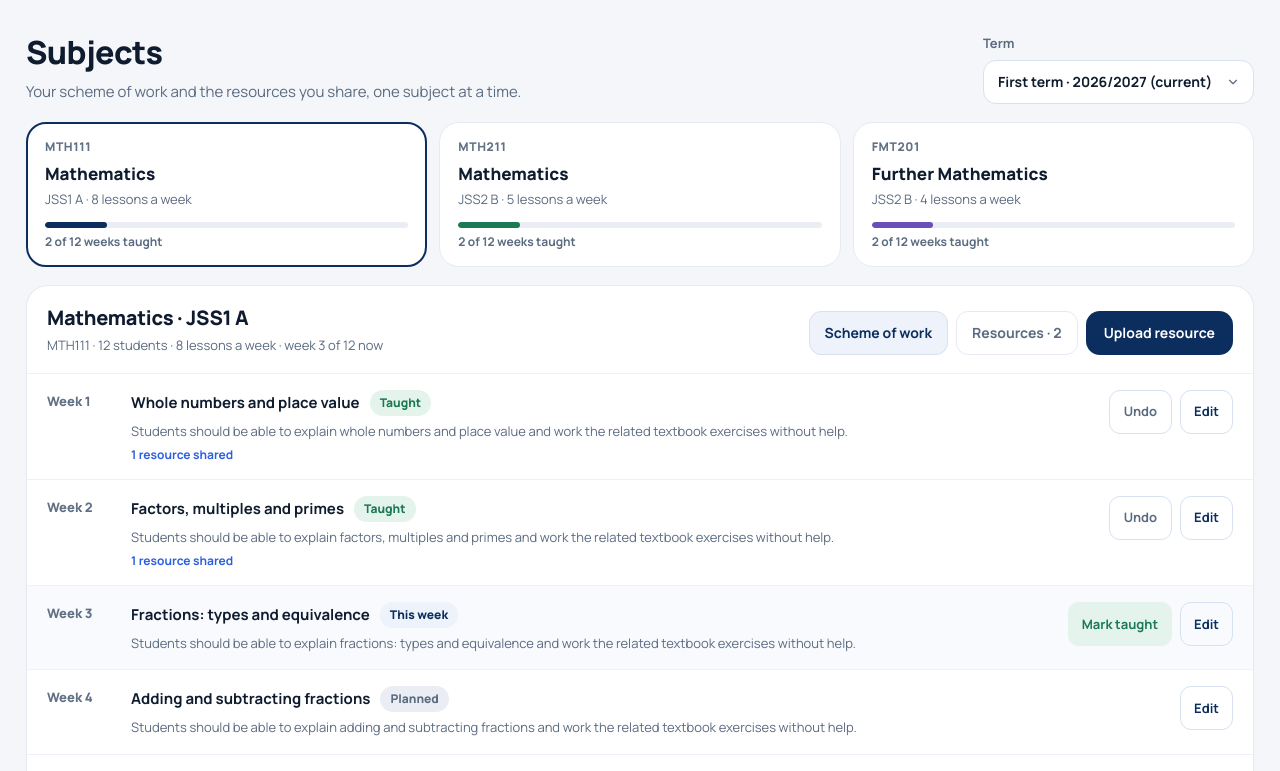
SubjectsScreen › marks a week taught, and offers the toggle only up to the current week
Click the button named "Mark taught for week 3": (1120, 624) [1068,602,1172,646]
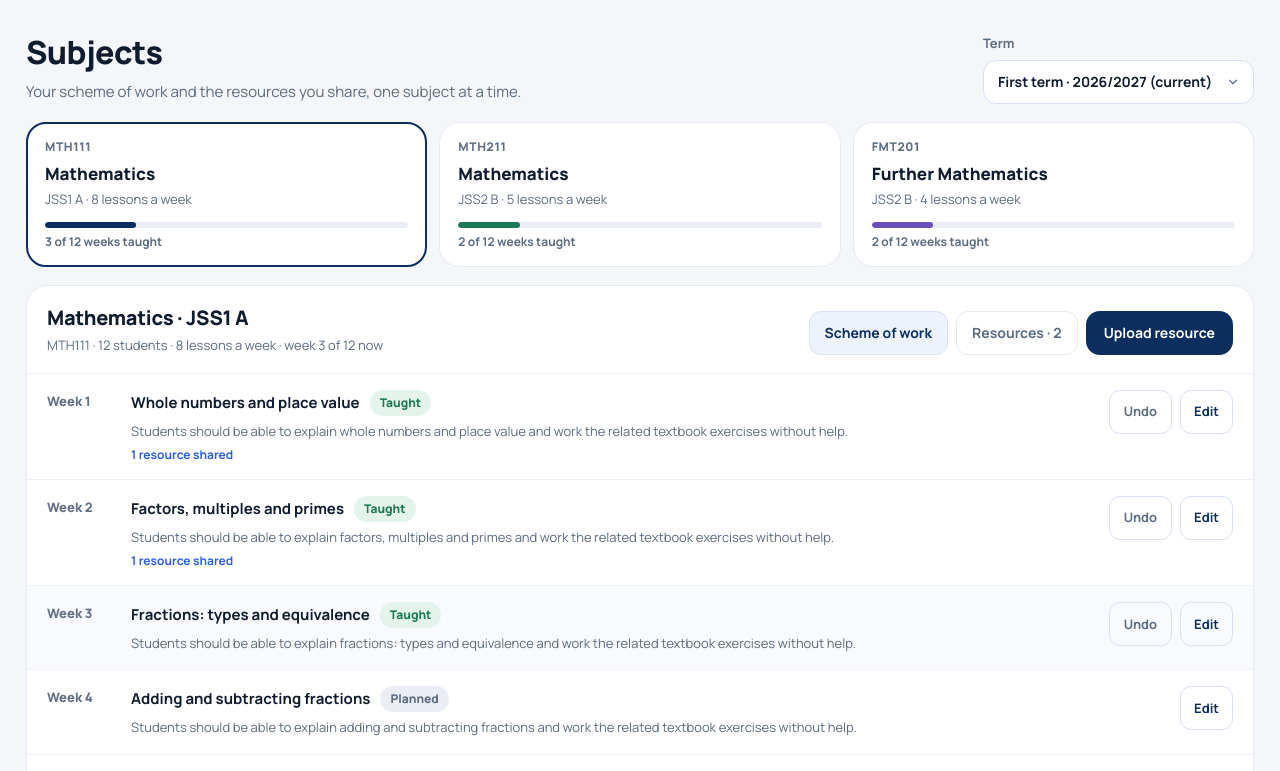
Expected: the button named "Undo taught for week 3" is shown, [1109,602,1172,646]
Expected: the button with aria-label "Open Mathematics · JSS1 A" shows "3 of 12 weeks taught", [26,122,427,266]
